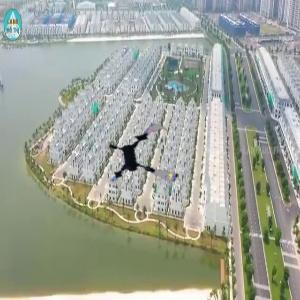drone: (106, 121, 183, 198)
